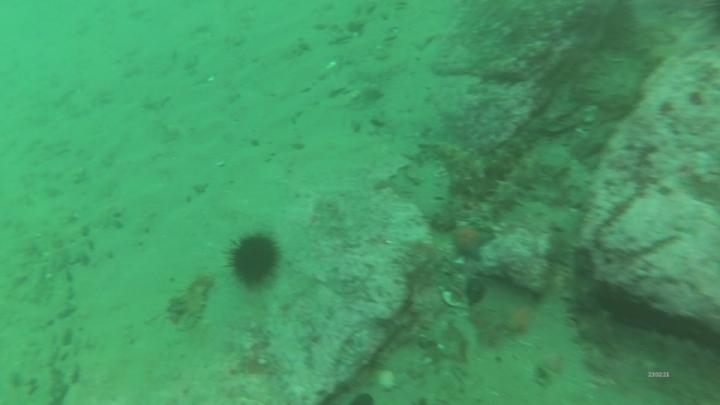echinus: (231, 238, 280, 283)
holothurian: (562, 246, 615, 349), (490, 153, 542, 210), (185, 274, 212, 319)
starfish: (453, 226, 493, 261)
